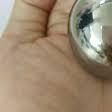ironball: (66, 0, 111, 86)
